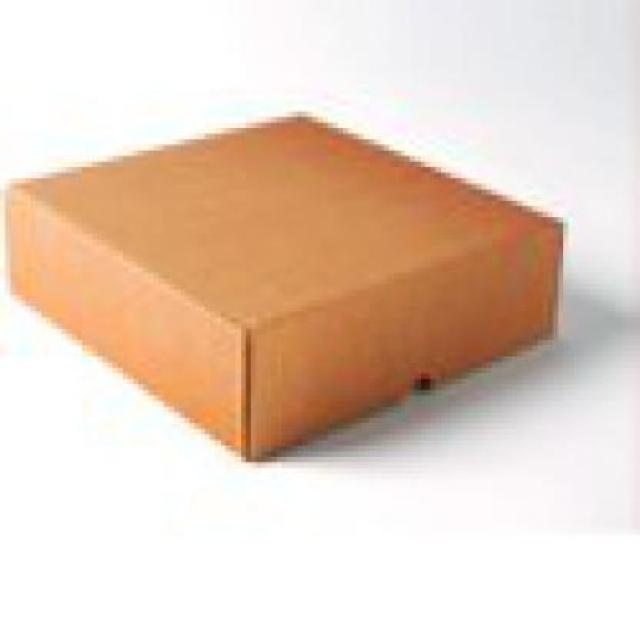box: (0, 112, 572, 469)
